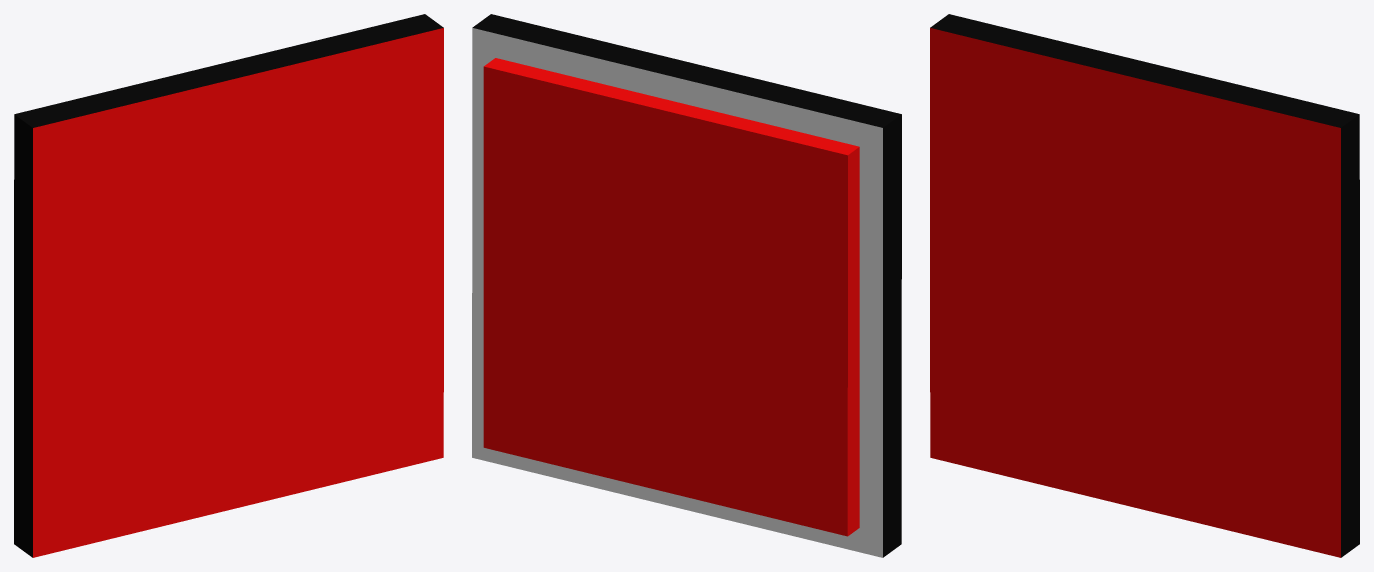
Rendered from barbutton.obj.
The picture shows the model from 3 angles, left to right: view 1: azimuth 30°, elevation 25°; view 2: azimuth 150°, elevation 25°; view 3: azimuth 330°, elevation 25°; orthographic projection.
Visible parts, largest first — view 1: Cube.001, Cube.002; view 2: Cube.001, Cube.003, Cube.002; view 3: Cube.001, Cube.002.
Boxes of the visible parts, x1,y1,x2,y2 form: Cube.001: [33, 28, 443, 557]; Cube.002: [14, 14, 443, 557]; Cube.001: [483, 58, 859, 536]; Cube.003: [472, 28, 882, 557]; Cube.002: [472, 14, 901, 557]; Cube.001: [930, 28, 1340, 557]; Cube.002: [930, 14, 1359, 557].
Bounding box in the file's own units: 1.75 × 1.75 × 0.2271.
